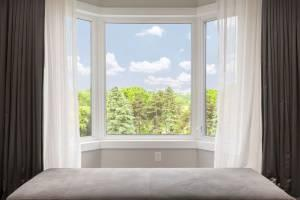window: (62, 15, 222, 139)
